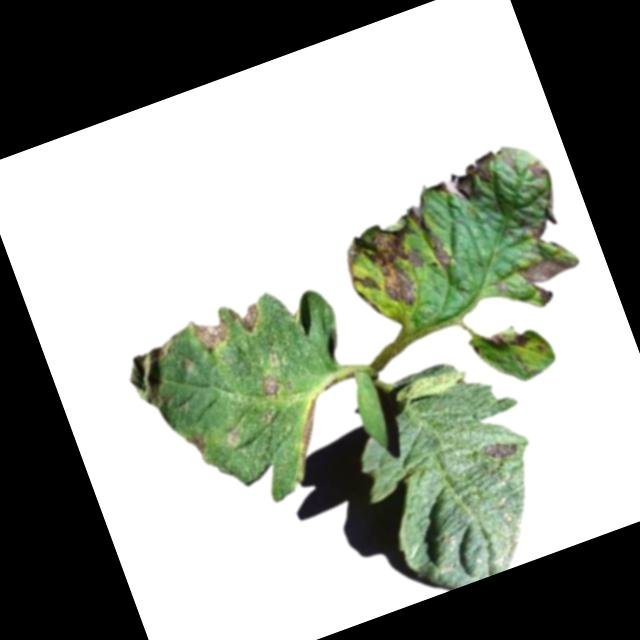Early_blight: (336, 214, 439, 326), (423, 151, 505, 217), (275, 399, 336, 477), (514, 247, 587, 308), (516, 176, 575, 243), (406, 198, 455, 277), (189, 309, 234, 358), (483, 320, 532, 361), (226, 296, 267, 338), (483, 434, 522, 467), (183, 429, 212, 460), (258, 373, 285, 403), (523, 156, 550, 183)
